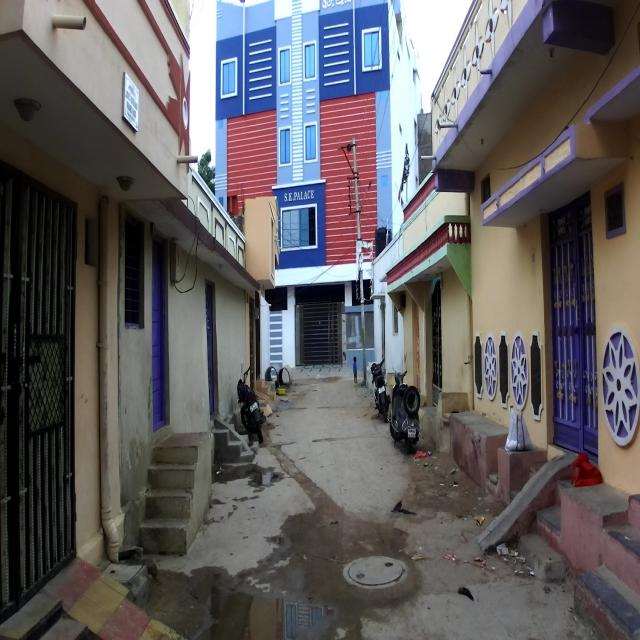motorcycle_Honda: (236, 364, 266, 444)
motorcycle_bajaj: (370, 358, 391, 422)
scooter: (386, 369, 421, 454)
